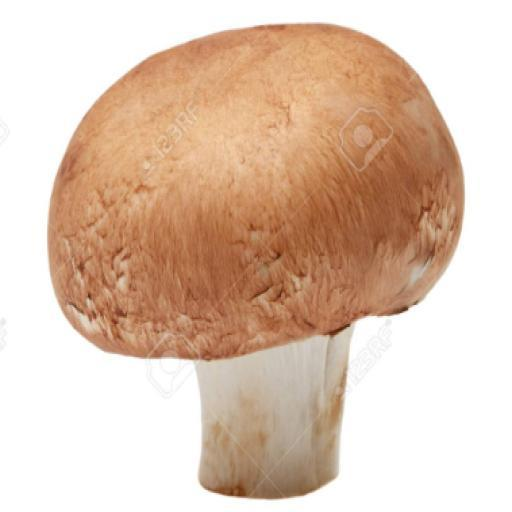mushroom: (48, 18, 472, 502)
